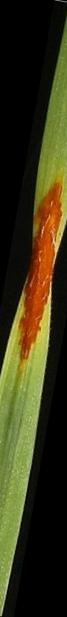Wheat: (12, 147, 67, 392)
